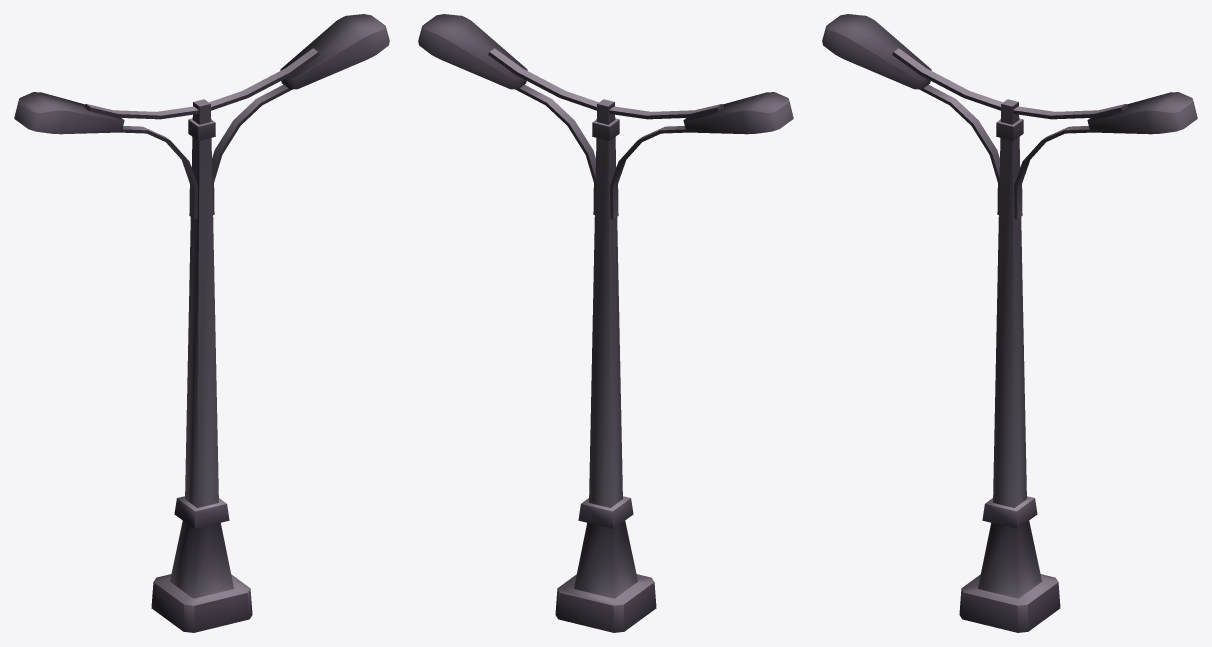
The model's file is Streetlight_2E.fbx.
3 views of the same model, side by side, from view 1: azimuth 30°, elevation 25°; view 2: azimuth 150°, elevation 25°; view 3: azimuth 330°, elevation 25° (orthographic).
Parts seen in each view (by area): view 1: Streetlight_2E; view 2: Streetlight_2E; view 3: Streetlight_2E.
Boxes of the visible parts, x1=… form: Streetlight_2E: x1=14, y1=14, x2=389, y2=632; Streetlight_2E: x1=418, y1=14, x2=793, y2=632; Streetlight_2E: x1=822, y1=14, x2=1197, y2=632.
Bounding box in the file's own units: 174 × 253 × 33.24.
